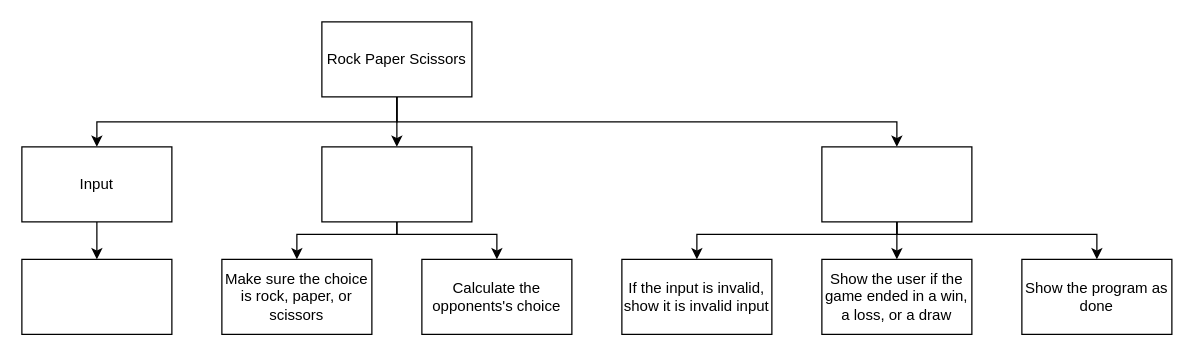
The diagram is 1194 pixels wide and 356 high, and some of its shapes have lost their labels. The box of each missing label's shape, as (x1, y1, x2, y2) in pixels:
Output: (821, 146, 972, 222)
Process: (321, 146, 472, 222)
Set the user's choice: (21, 258, 172, 334)
